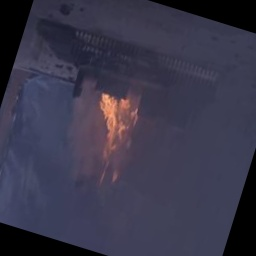fire: (81, 79, 144, 169)
